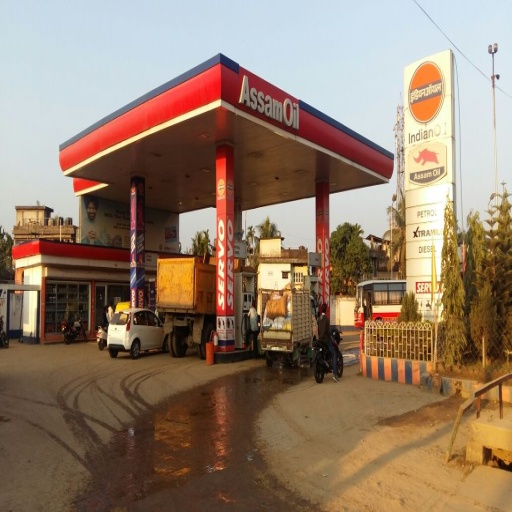roof: (59, 43, 389, 220)
